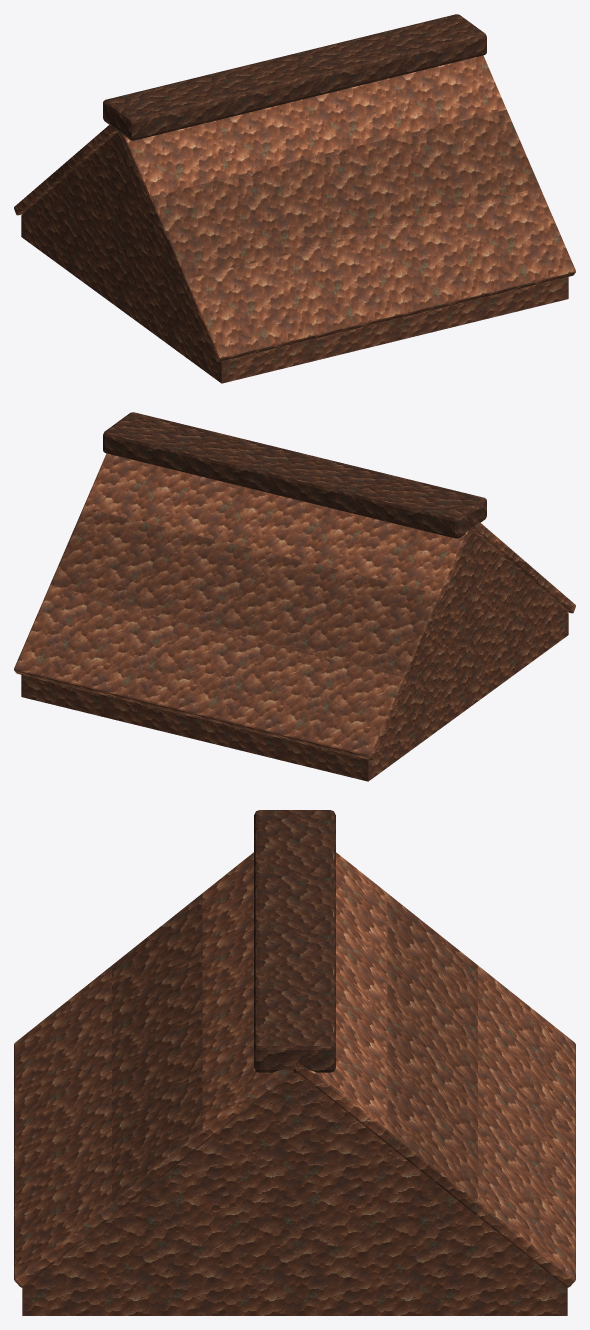
Rendered from roof_45_ridge__copper_ingot.glb.
The picture shows the model from 3 angles, top to bottom: view 1: azimuth 30°, elevation 25°; view 2: azimuth 150°, elevation 25°; view 3: azimuth 270°, elevation 25°; orthographic projection. The views are drawn at different scales.
Parts seen in each view (by area): view 1: model; view 2: model; view 3: model.
Part boxes in pixels (x1,y1,x2,y2): model: (14,14,575,383); model: (14,412,575,781); model: (14,810,575,1315).
Size of the model in its own units: 2.06 by 1.11 by 2.06.
Materials: 4 (4 with a texture image).
